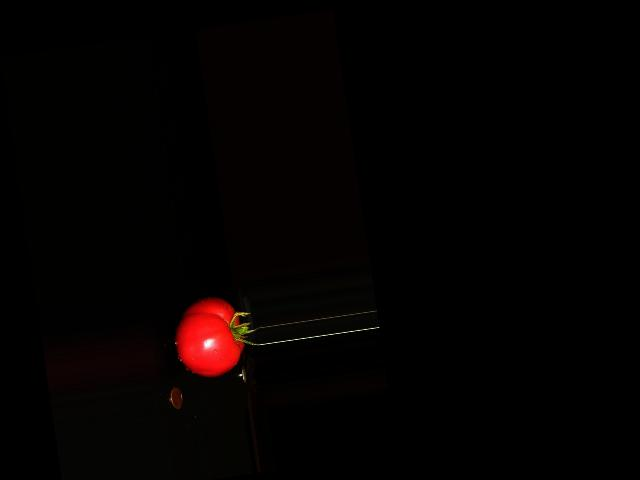tomato: (168, 292, 248, 381)
